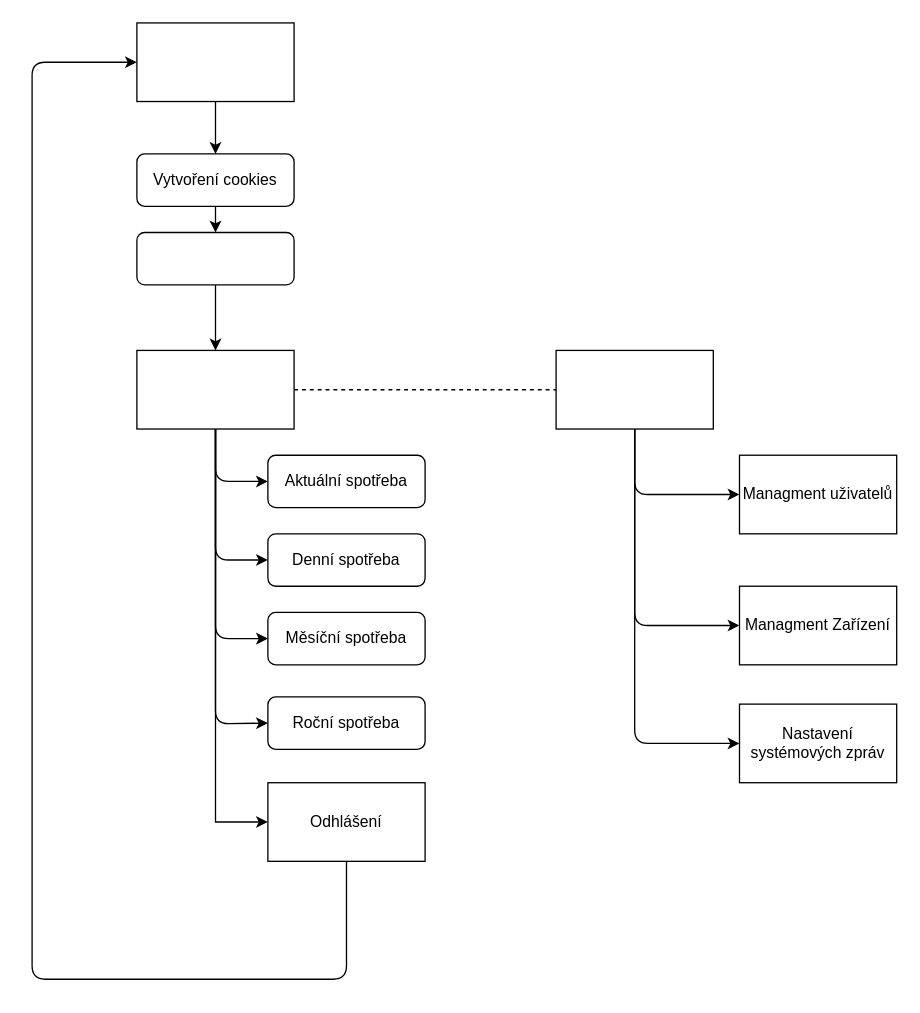
Some shapes in this 920 by 1013 pixel diagram are drawn without their labels. The centre of each missing label's shape, as x and y in pixels:
"Hl. stránka" belongs at (x=215, y=389).
"Login" belongs at (x=215, y=62).
"Správa" belongs at (x=634, y=389).
"Vytvoření session" belongs at (x=215, y=258).
